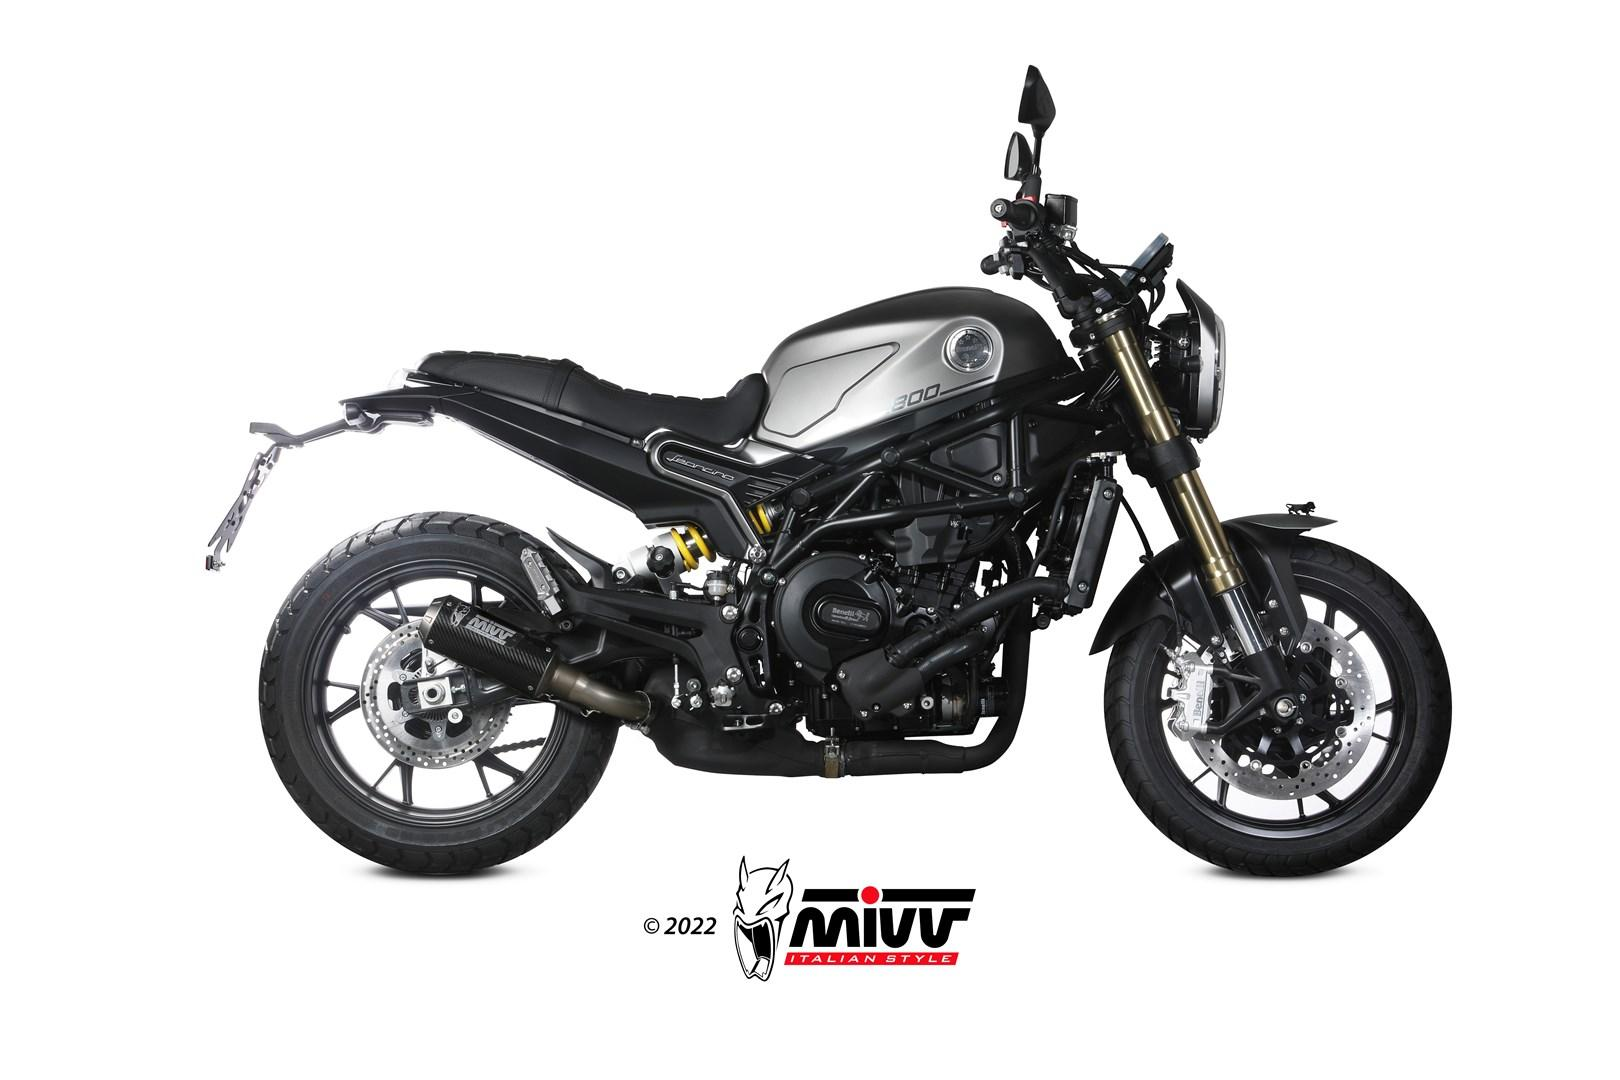engine-chasis: (650, 393, 1070, 739), (611, 522, 717, 594), (745, 498, 786, 535)
exhaust: (417, 594, 1032, 779)
frontside: (1006, 277, 1340, 736)
handlebar: (980, 64, 1174, 362)
motorbike: (207, 65, 1452, 876)
rearside: (205, 368, 785, 714), (400, 667, 518, 715)
seat: (411, 350, 767, 445)
tank: (749, 286, 1082, 464)
watermark: (639, 853, 981, 982)
wheel: (258, 511, 620, 876), (1103, 535, 1452, 877), (1121, 494, 1182, 655), (582, 655, 671, 671)
